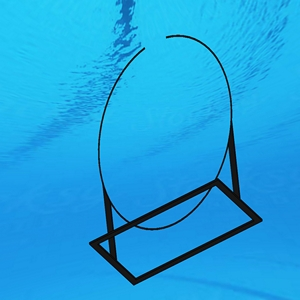circle: (88, 31, 265, 287)
